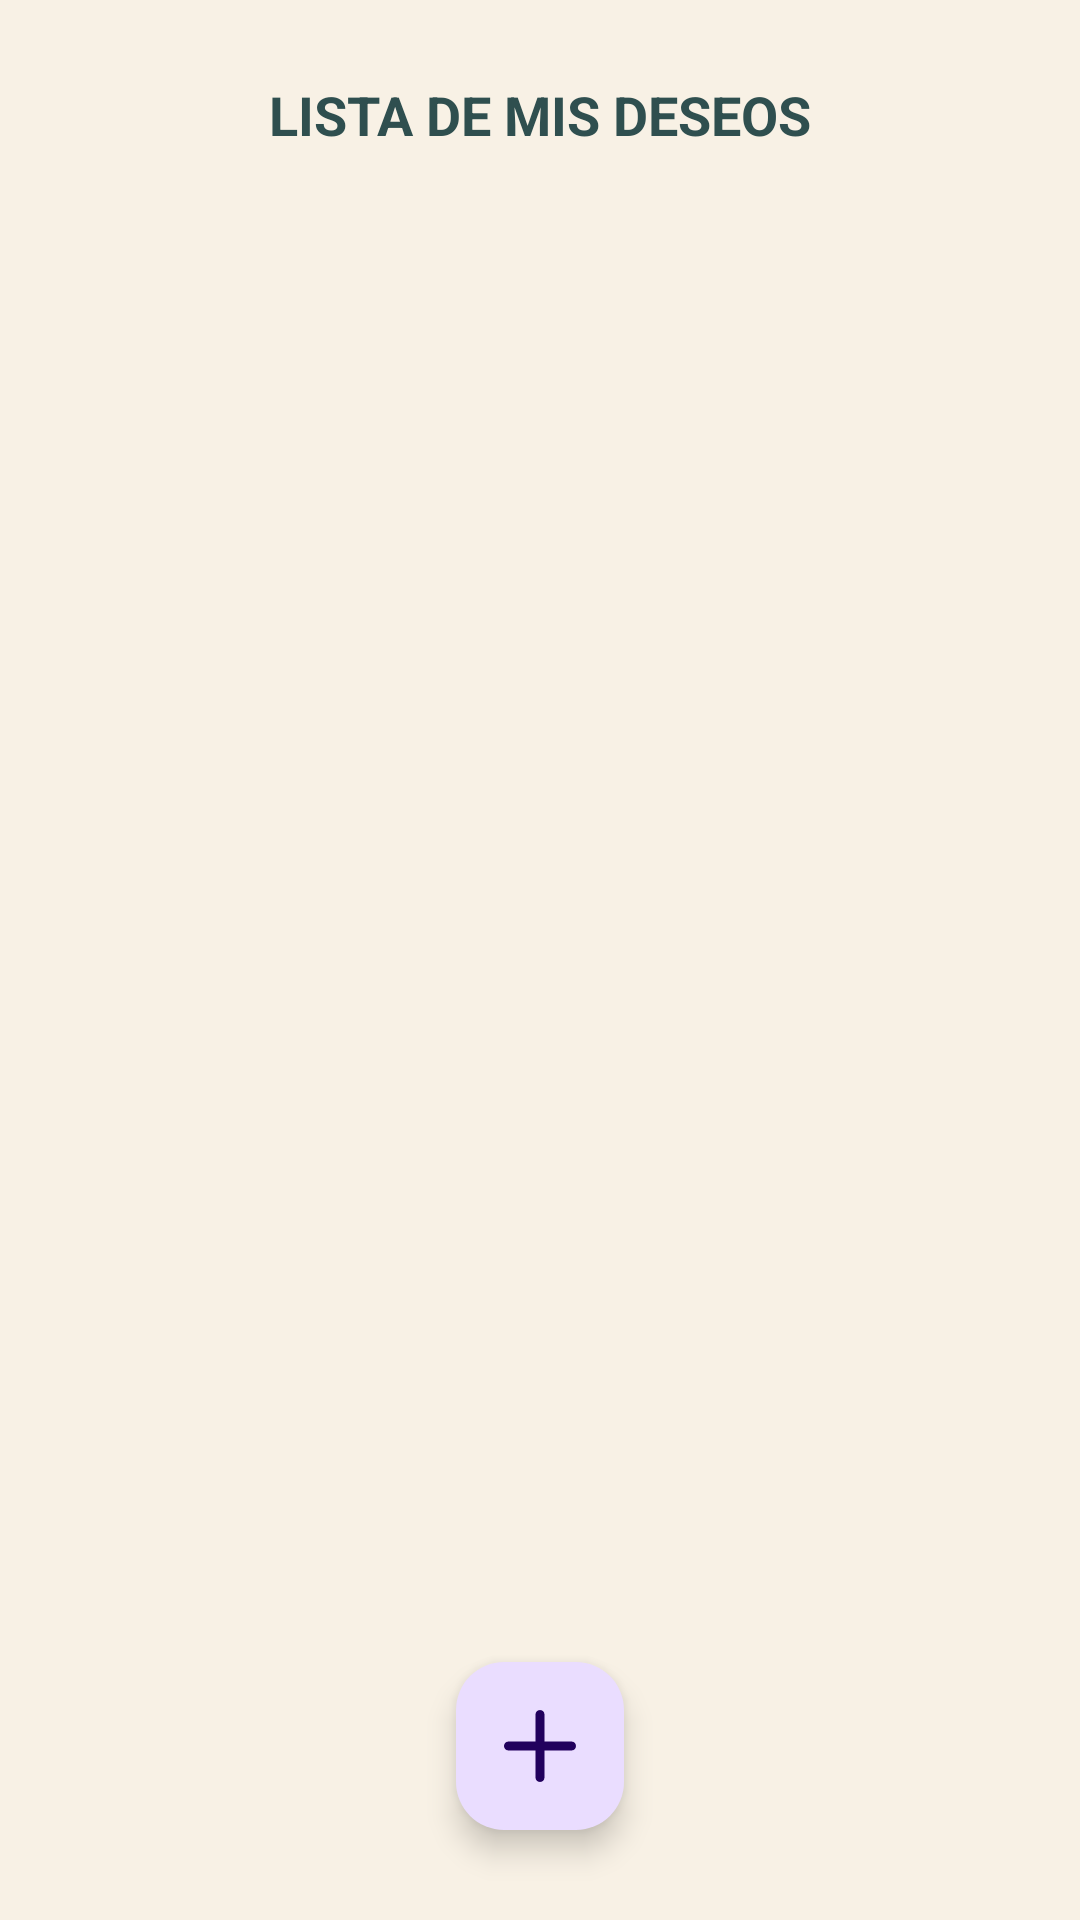

Icon bounding boxes for this 1080 × 1920 phone screenshot, format [x1=x1, y1=y1, x2=x2, y2=y2]:
Boton para añadir nota en la lista de deseos: [x1=456, y1=1662, x2=624, y2=1830]
